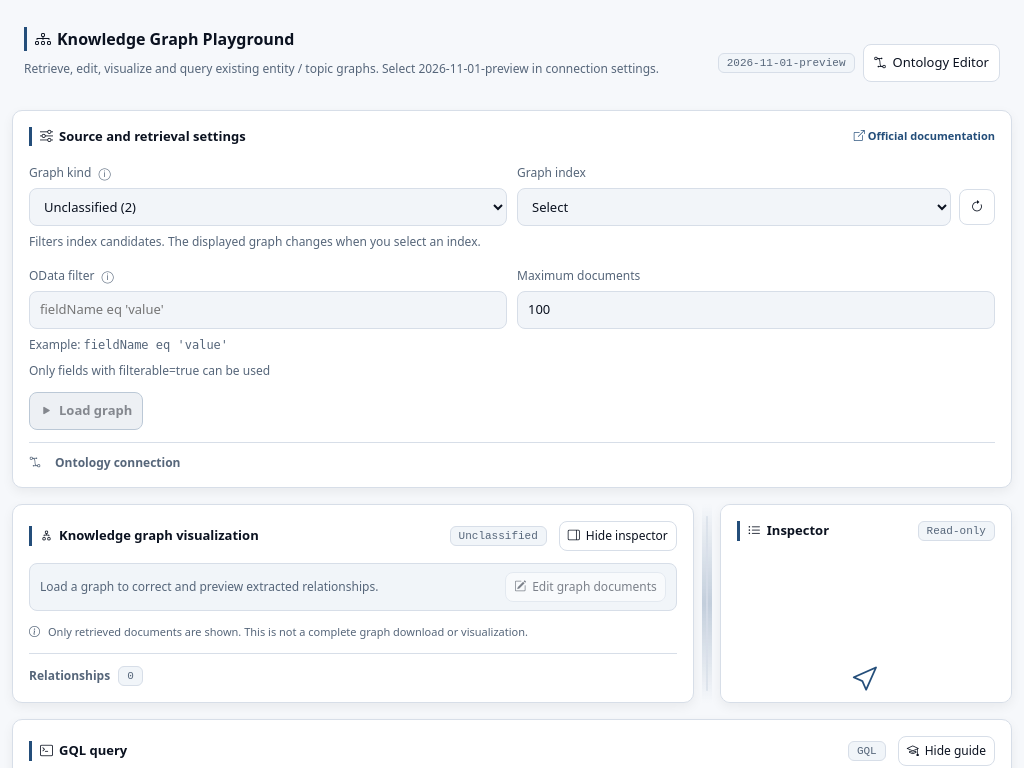
it: KnowledgeGraphPlayground controls › runs a template immediately with its provenance setting and the required hydrateDocuments object
Select "graph-a" in the dropdown named "Graph index" at (734, 207), box x1=517 y1=188 x2=951 y2=226
(page scrolled)
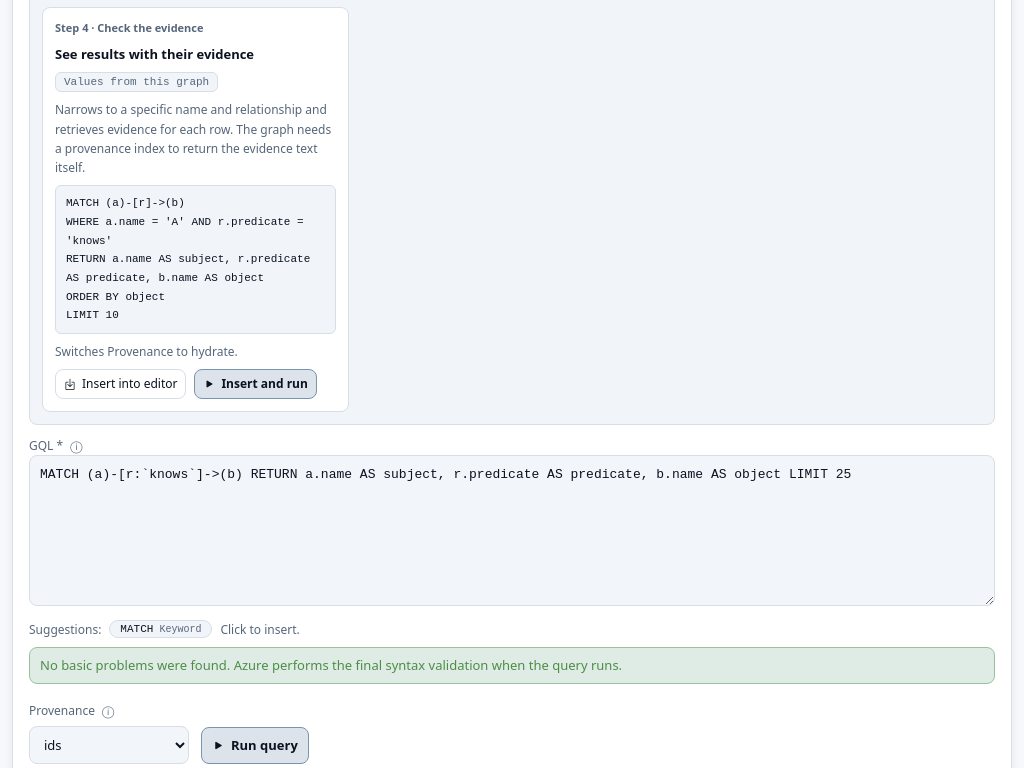
expect the button "Run query" is enabled: met, box x1=201 y1=727 x2=309 y2=764
expect the text "Switches Provenance to hydrate." is shown: met, box x1=55 y1=343 x2=238 y2=360
Click the button "Insert and run" at (256, 384), box x1=194 y1=369 x2=317 y2=399
(page scrolled)
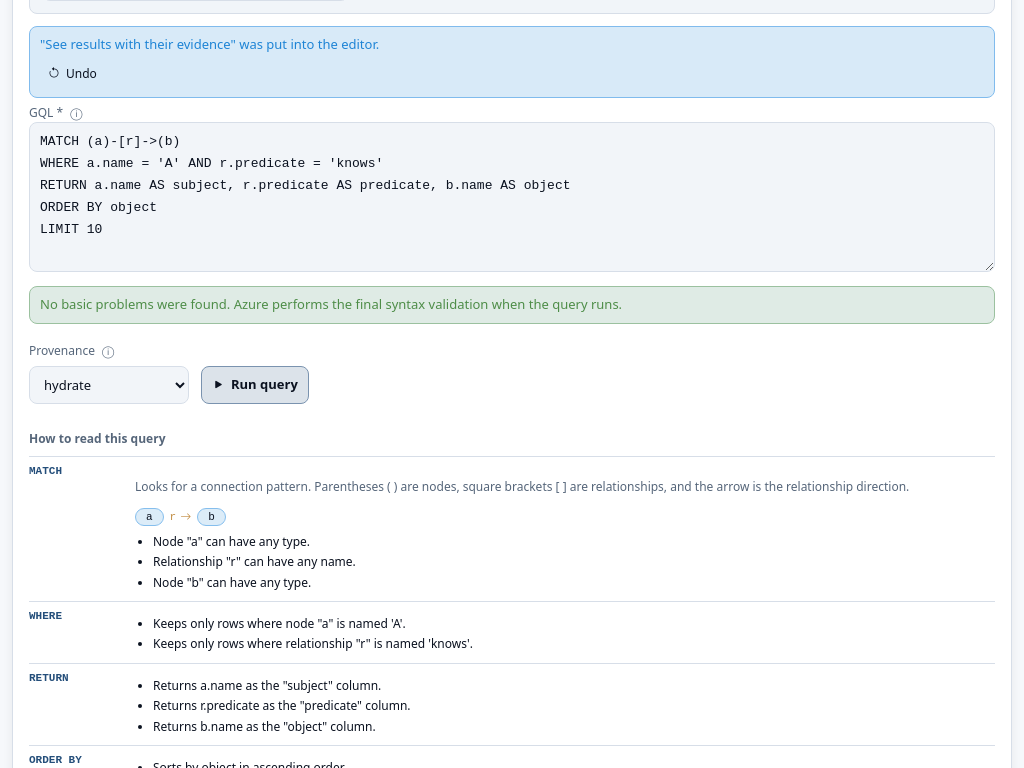
expect the dropdown labelled "Provenance ⓘ" shows "hydrate": met, box x1=29 y1=366 x2=189 y2=404
